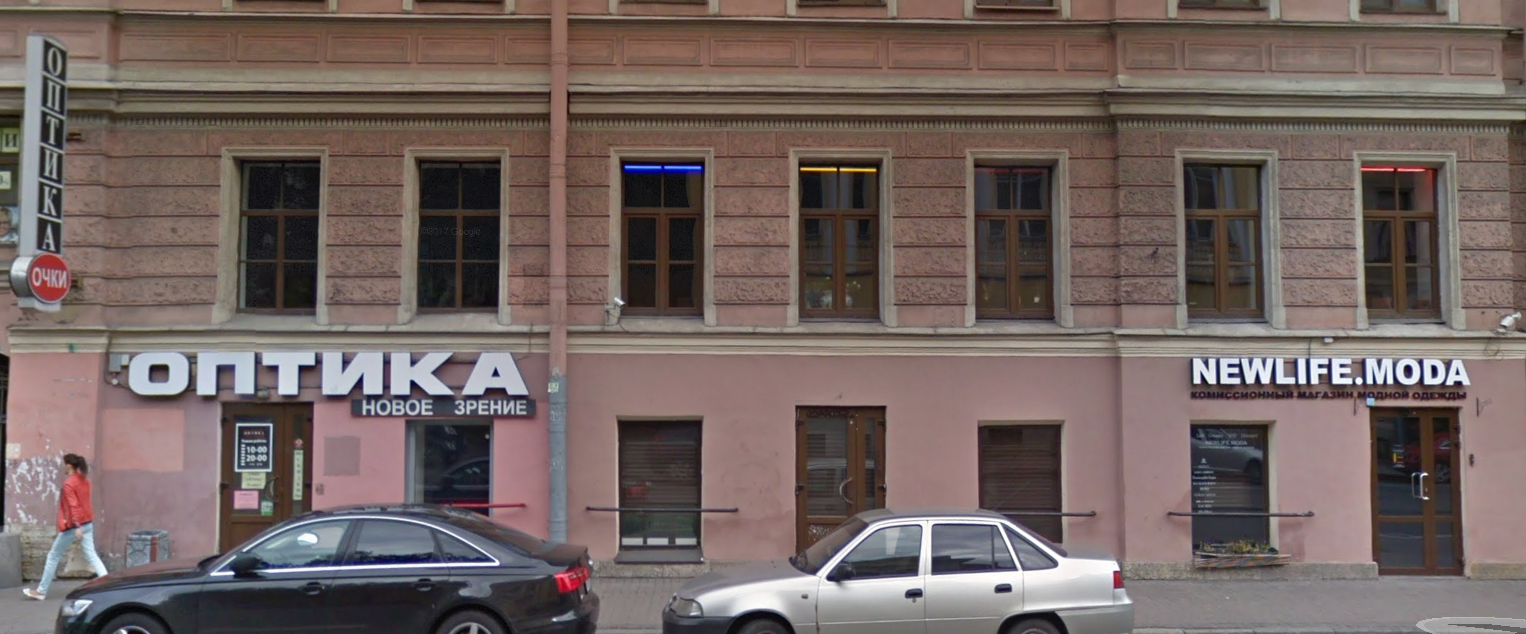cantilever: (1, 34, 91, 326)
door: (1370, 407, 1460, 577), (218, 404, 309, 560), (797, 405, 886, 563)
signboard: (114, 337, 542, 427), (1182, 351, 1479, 411)
window: (796, 155, 880, 322), (419, 155, 503, 320), (1177, 160, 1263, 320), (1362, 154, 1445, 319), (973, 162, 1057, 323), (620, 155, 701, 320), (237, 159, 319, 318), (617, 417, 703, 566), (1189, 420, 1273, 559), (978, 425, 1059, 539), (419, 421, 491, 525)
